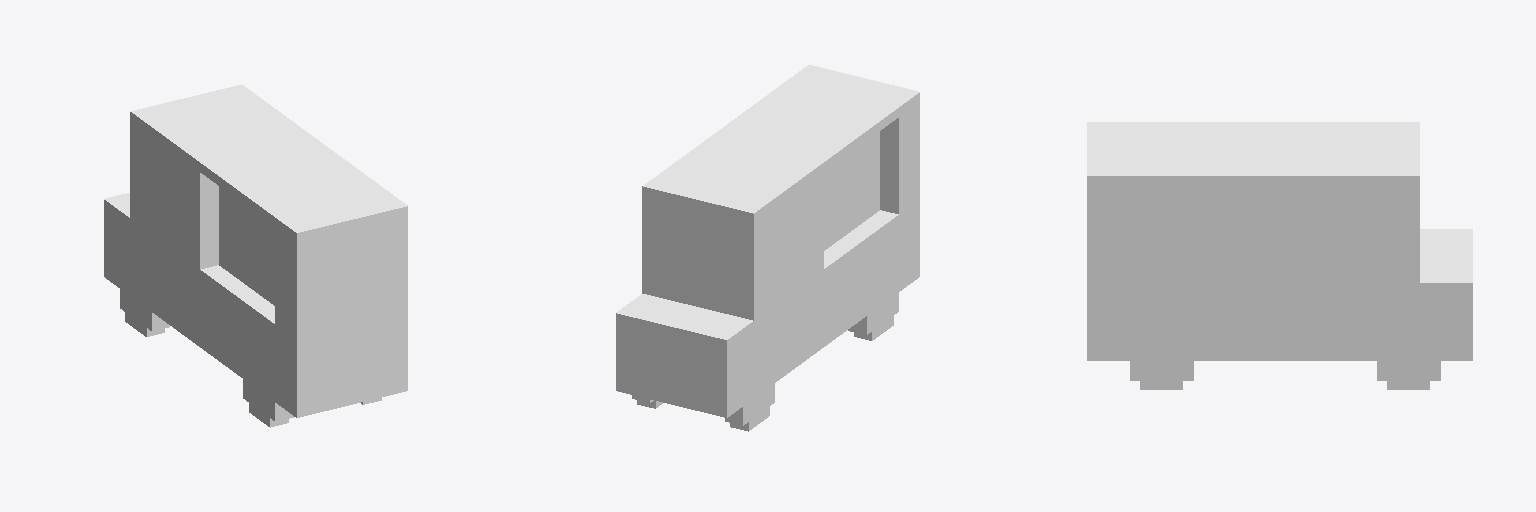
File: van_ice_cream_2_orange.obj
3 views of the same model, side by side, from view 1: azimuth 30°, elevation 25°; view 2: azimuth 150°, elevation 25°; view 3: azimuth 270°, elevation 25° (orthographic).
Parts seen in each view (by area): view 1: van_ice_cream_2_orange; view 2: van_ice_cream_2_orange; view 3: van_ice_cream_2_orange.
Boxes of the visible parts, x1=… form: van_ice_cream_2_orange: x1=104, y1=84, x2=407, y2=427; van_ice_cream_2_orange: x1=616, y1=65, x2=919, y2=431; van_ice_cream_2_orange: x1=1087, y1=122, x2=1472, y2=389.
Size of the model in its own units: 12 by 22 by 36.